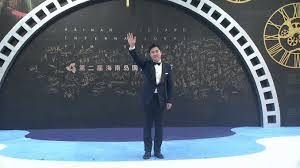hand: (127, 31, 136, 48)
